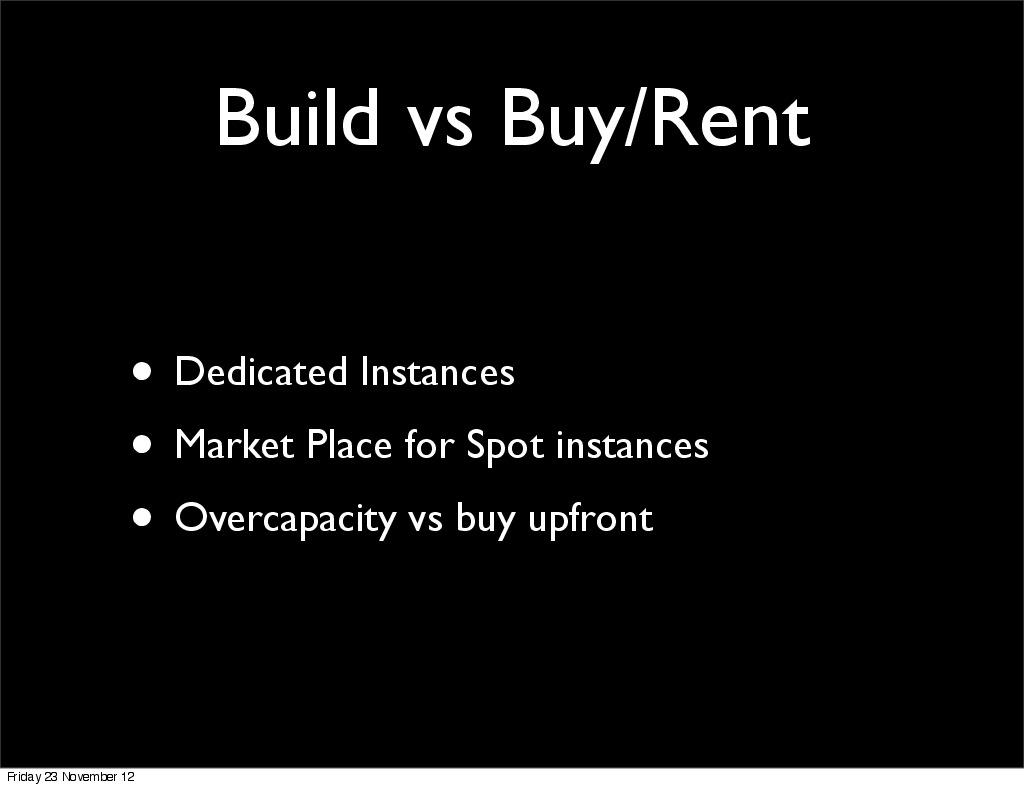paragraph: (111, 318, 773, 552)
title: (200, 57, 839, 186)
